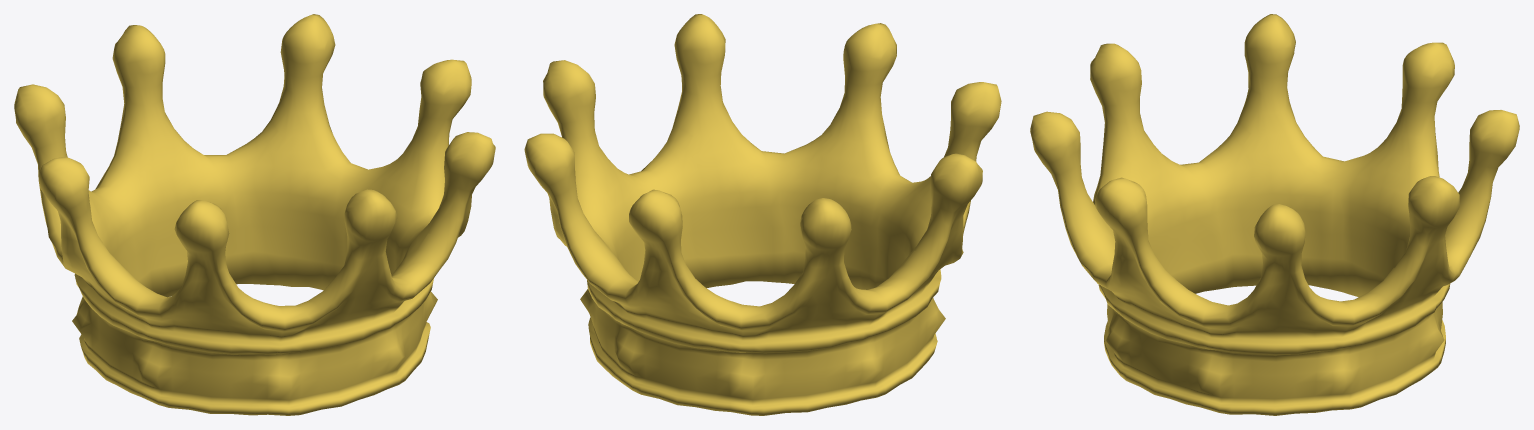
The model's file is Crown.glb.
3 renders of one model, left to right at view 1: azimuth 30°, elevation 25°; view 2: azimuth 150°, elevation 25°; view 3: azimuth 270°, elevation 25°, orthographic.
Parts seen in each view (by area): view 1: Crown; view 2: Crown; view 3: Crown.
Part boxes in pixels (x1,y1,x2,y2): Crown: [14, 14, 495, 415]; Crown: [524, 14, 1001, 415]; Crown: [1030, 14, 1519, 415].
Bounding box in the file's own units: 2 × 1.05 × 2.
